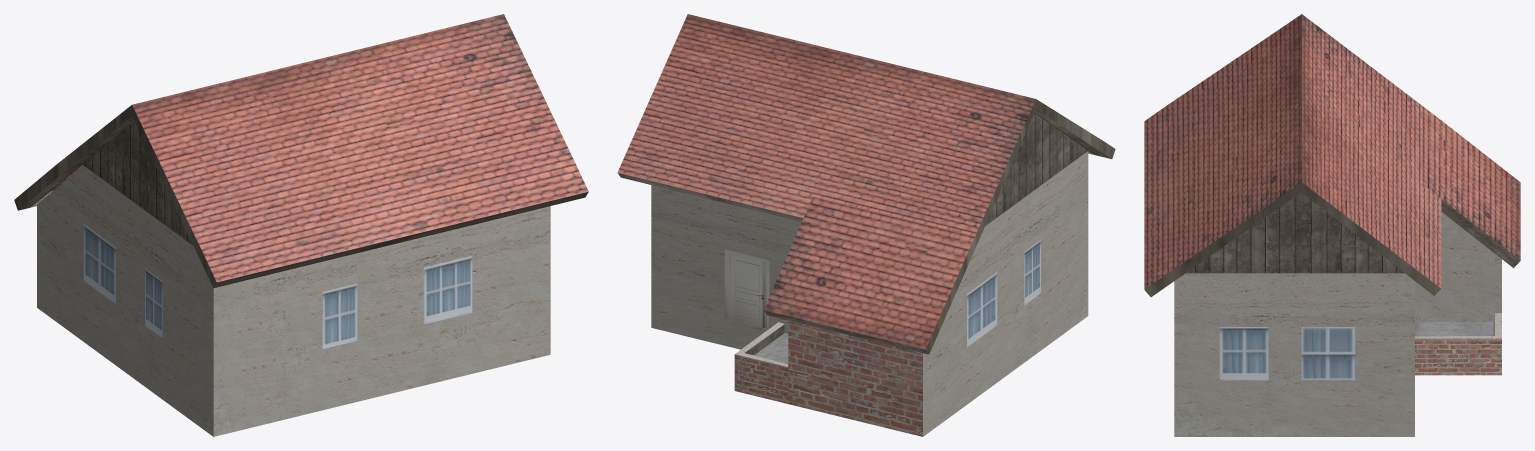
File: sb_house_old_mj.fbx
3 views of the same model, side by side, from view 1: azimuth 30°, elevation 25°; view 2: azimuth 150°, elevation 25°; view 3: azimuth 270°, elevation 25° (orthographic). The views are drawn at different scales.
Visible parts, largest first — view 1: sb_house_old_mj; view 2: sb_house_old_mj; view 3: sb_house_old_mj.
Boxes of the visible parts, x1,y1,x2,y2 form: sb_house_old_mj: (14,14,588,436); sb_house_old_mj: (617,14,1115,436); sb_house_old_mj: (1144,14,1520,436).
Bounding box in the file's own units: 13.24 × 9.7 × 12.51.
